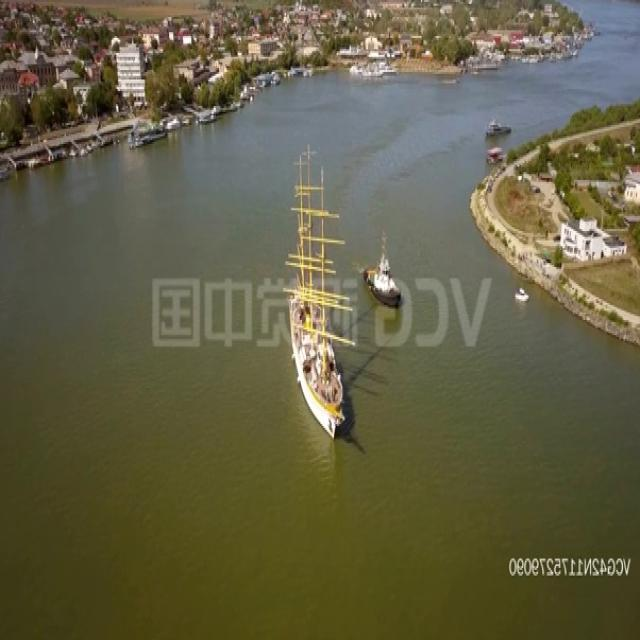houseboat: (366, 230, 402, 308), (487, 116, 513, 137), (487, 140, 502, 165), (515, 283, 528, 307)
sailboat: (286, 143, 352, 441)
